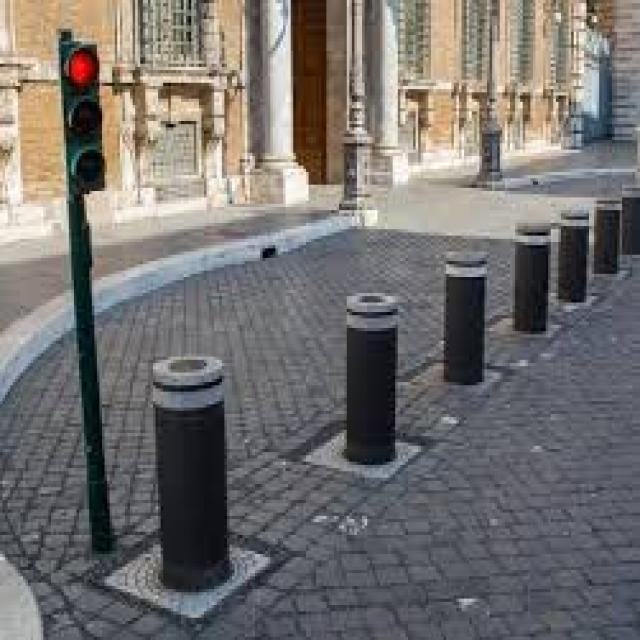bollard: (142, 350, 236, 591), (336, 281, 404, 488), (432, 238, 486, 393), (511, 217, 555, 349), (556, 203, 591, 315), (594, 189, 622, 286), (620, 176, 640, 266)
